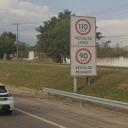speed_limit_110: (74, 18, 92, 36)
